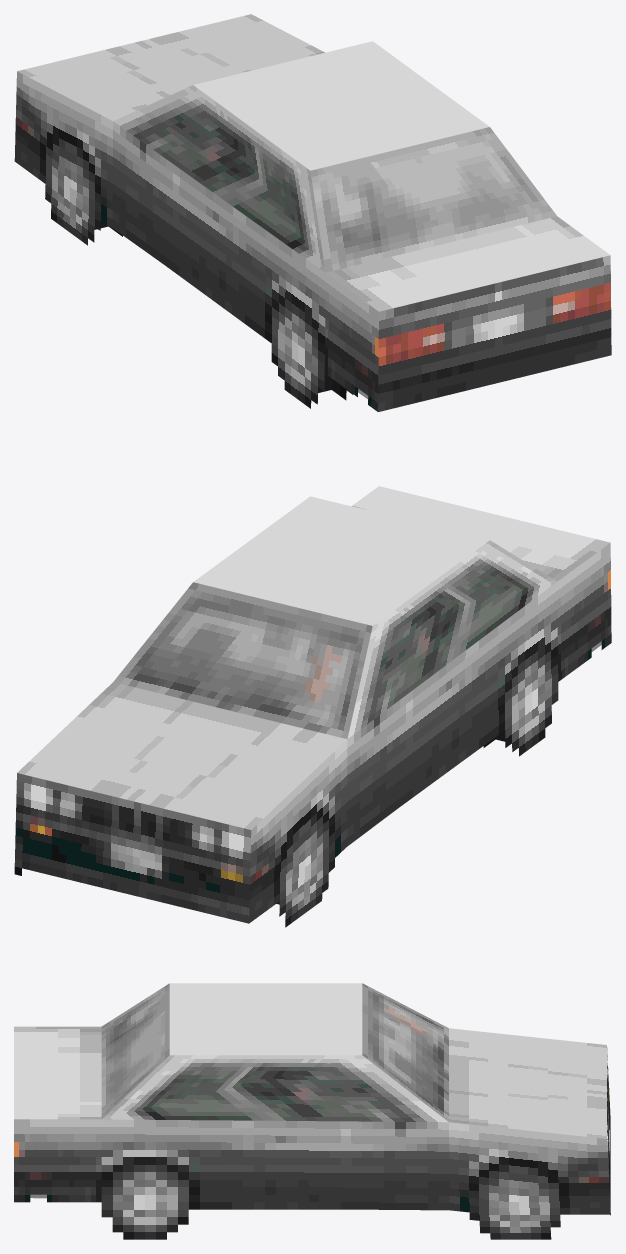
The model's file is car-bmw-plt3.glb.
3 renders of one model, top to bottom at view 1: azimuth 30°, elevation 25°; view 2: azimuth 150°, elevation 25°; view 3: azimuth 270°, elevation 25°, orthographic. The views are drawn at different scales.
Visible parts, largest first — view 1: car-bmw-plt3; view 2: car-bmw-plt3; view 3: car-bmw-plt3.
Boxes of the visible parts, x1,y1,x2,y2 form: car-bmw-plt3: (14, 14, 611, 411); car-bmw-plt3: (14, 486, 611, 927); car-bmw-plt3: (14, 983, 610, 1239).
Size of the model in its own units: 1.41 by 1.21 by 3.78.
Materials: 15 (15 with a texture image).
